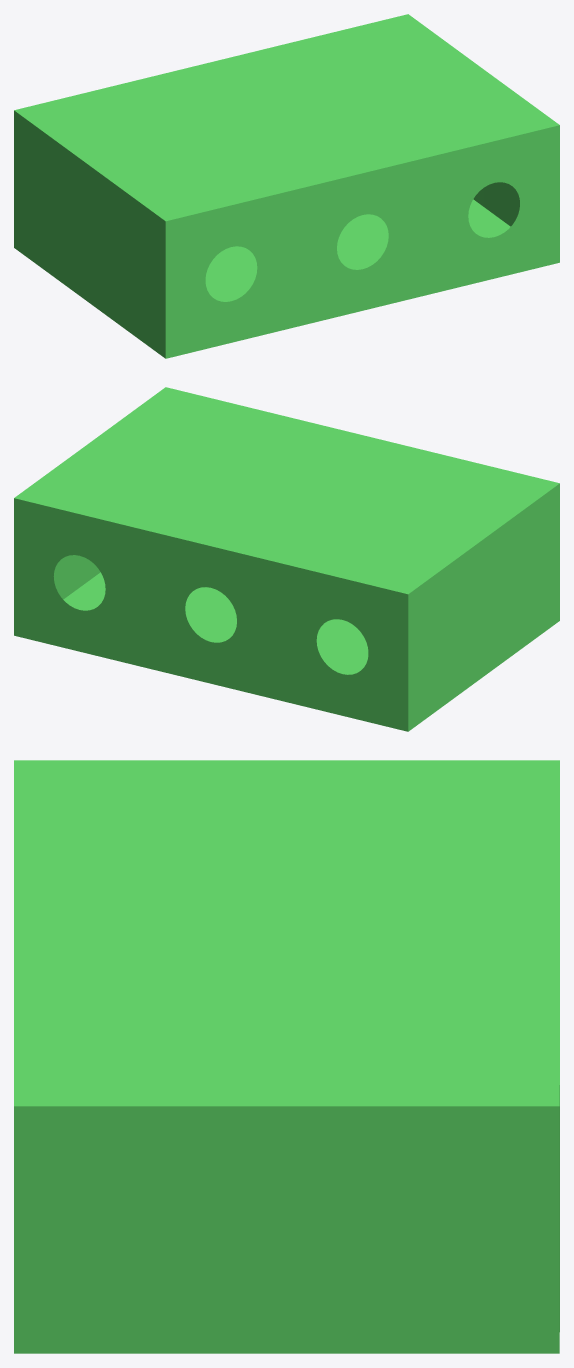
File: Area3.CaveHub.placeholder1.fbx
3 views of the same model, one above another, from view 1: azimuth 30°, elevation 25°; view 2: azimuth 150°, elevation 25°; view 3: azimuth 270°, elevation 25° (orthographic). The views are drawn at different scales.
Visible parts, largest first — view 1: Cube.001; view 2: Cube.001; view 3: Cube.001.
Boxes of the visible parts, box(x1,y1,x2,y2) form: Cube.001: box(14, 14, 559, 358); Cube.001: box(14, 387, 559, 731); Cube.001: box(14, 760, 559, 1353).
Size of the model in its own units: 600 by 200 by 400.
